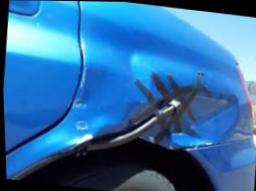Fender: (106, 62, 250, 153)
